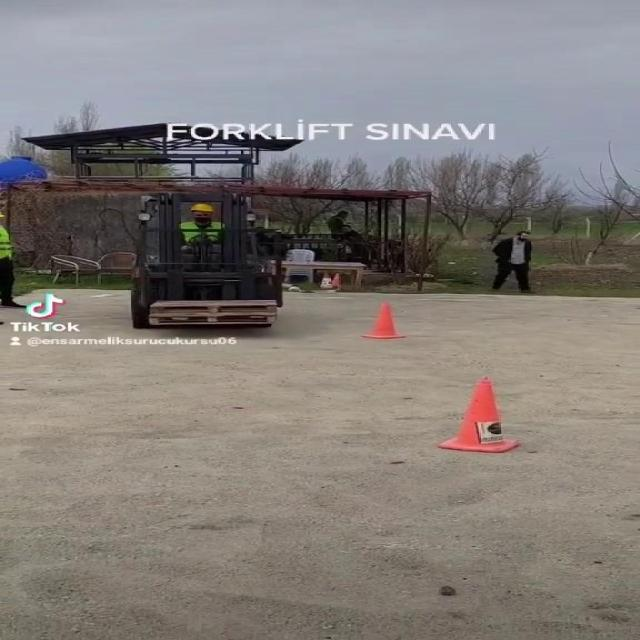forklift: (125, 189, 282, 332)
pallets: (144, 291, 296, 335)
person: (493, 224, 541, 308), (173, 199, 236, 253)
